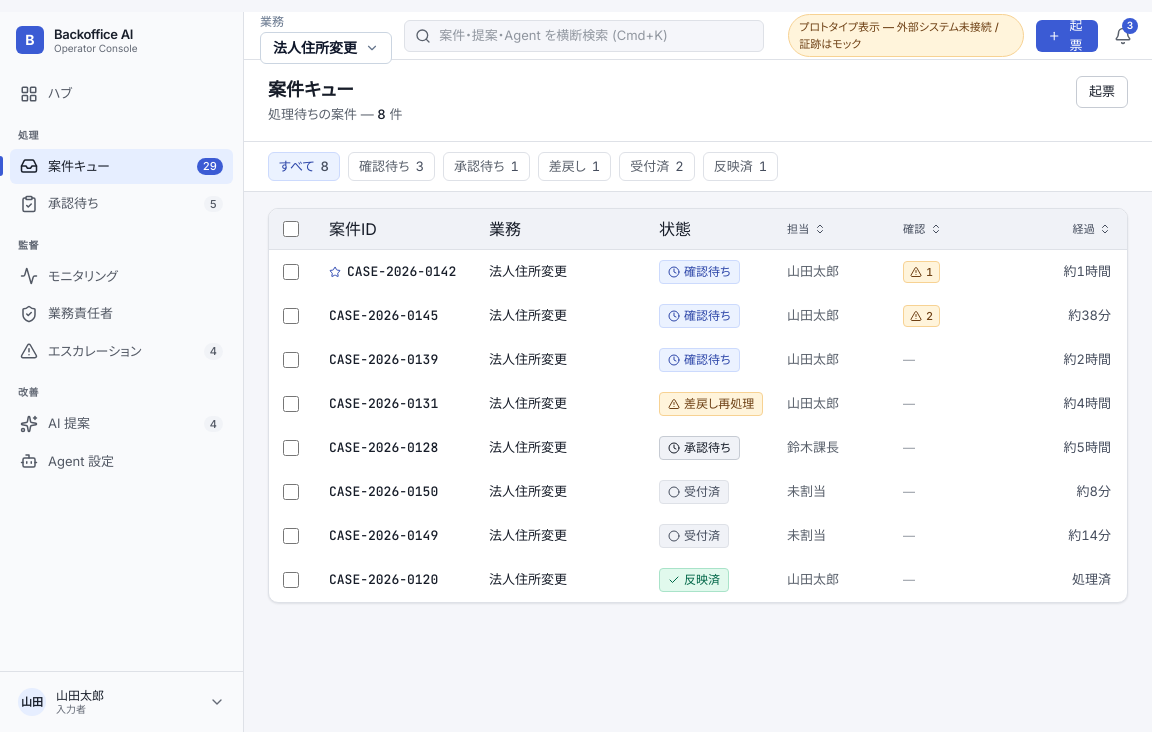
it: P1-1: ProcessSelector が /cases の list filter に伝播する › 口座開設書類完備 に切替 → 口座開設のみ、法人住所変更は非表示
The width and height of the screenshot is (1152, 732).
Click the button "法人住所変更".
click(326, 48)  # box [260,32,392,64]
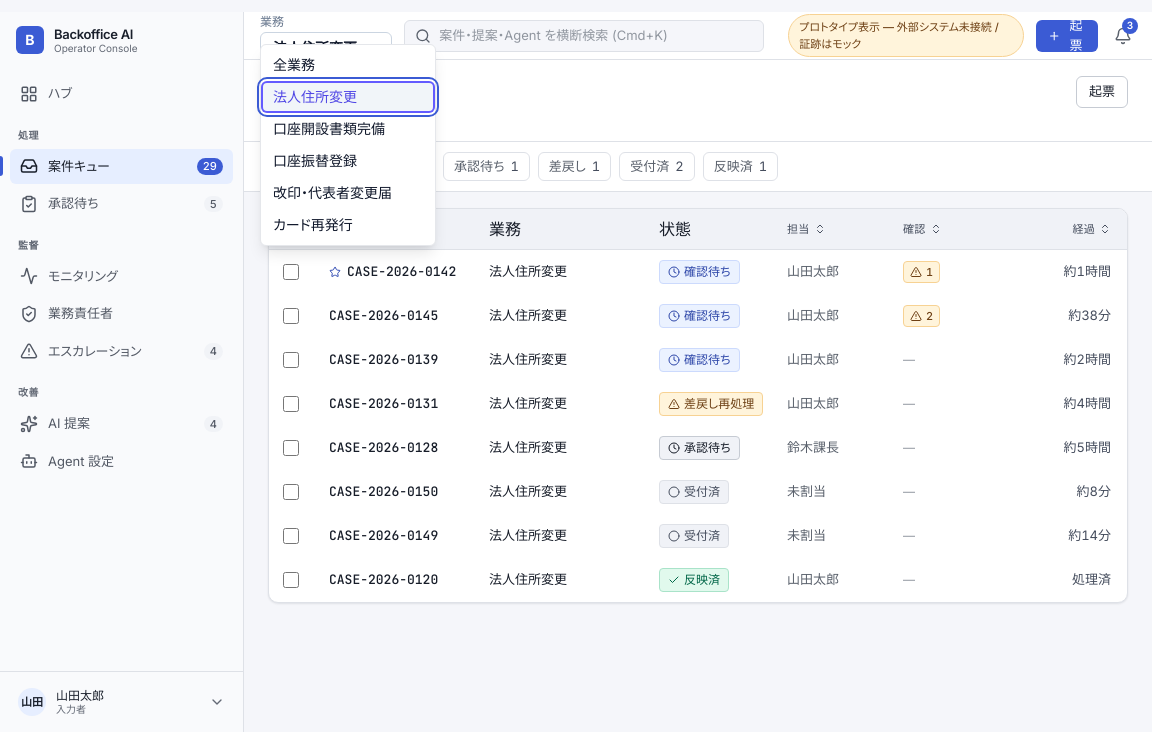
Click the option "口座開設書類完備".
click(329, 128)  # box [273,120,385,136]
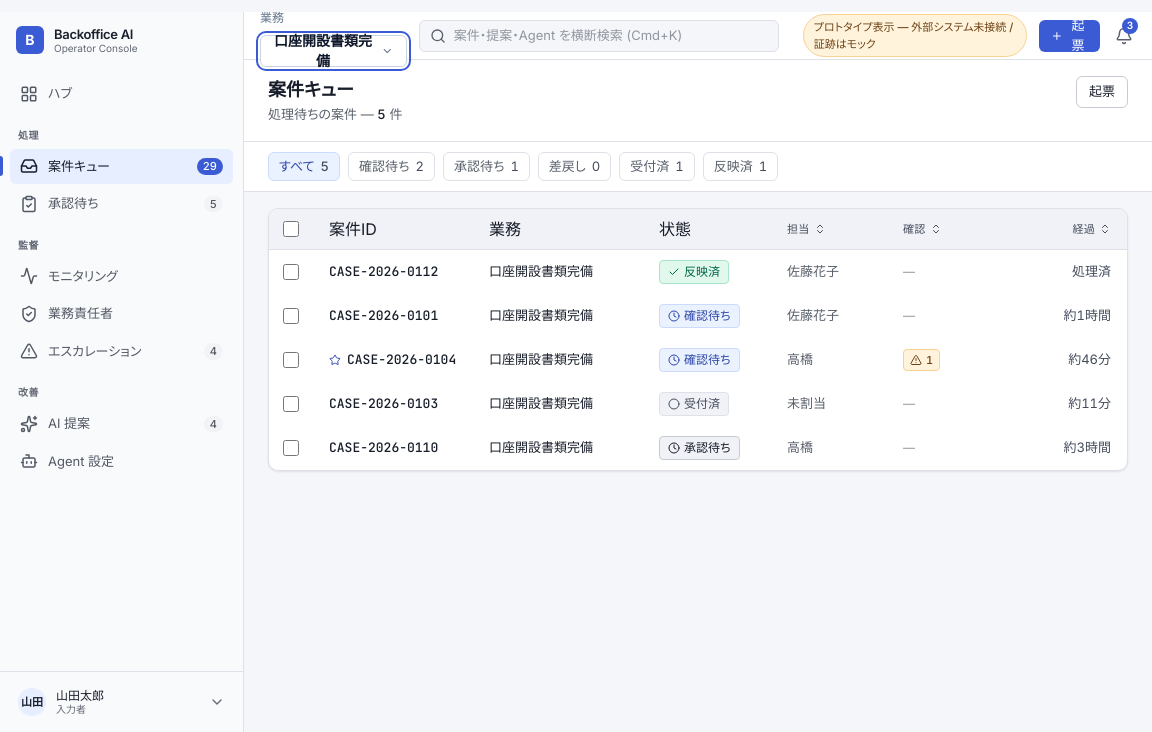
Now the text "CASE-2026-0112" is shown, box [329,263,438,280]
Now no links "CASE-2026-0142" are shown
